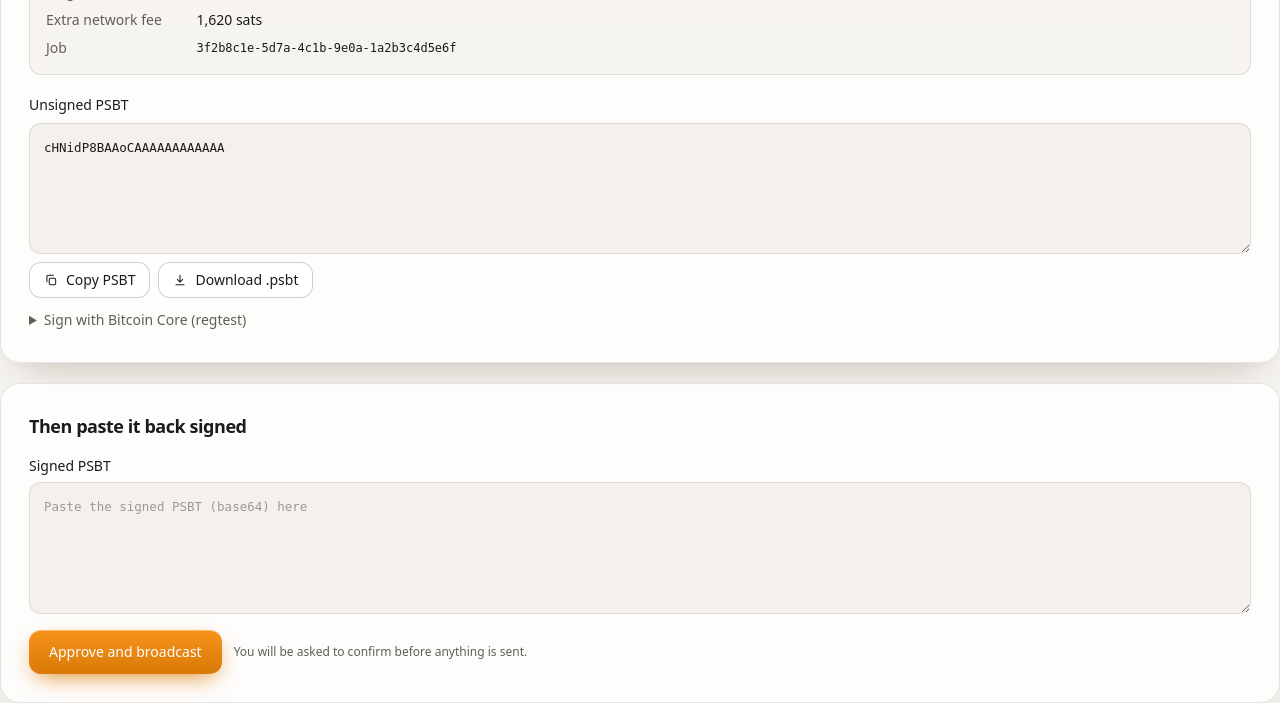
Test: Handoff approval › closing with Cancel never submits
(page scrolled)
Type "c2lnbmVkLXBzYnQ=" into the text box labelled "Signed PSBT". click: (640, 548)
box: [29,482,1251,614]
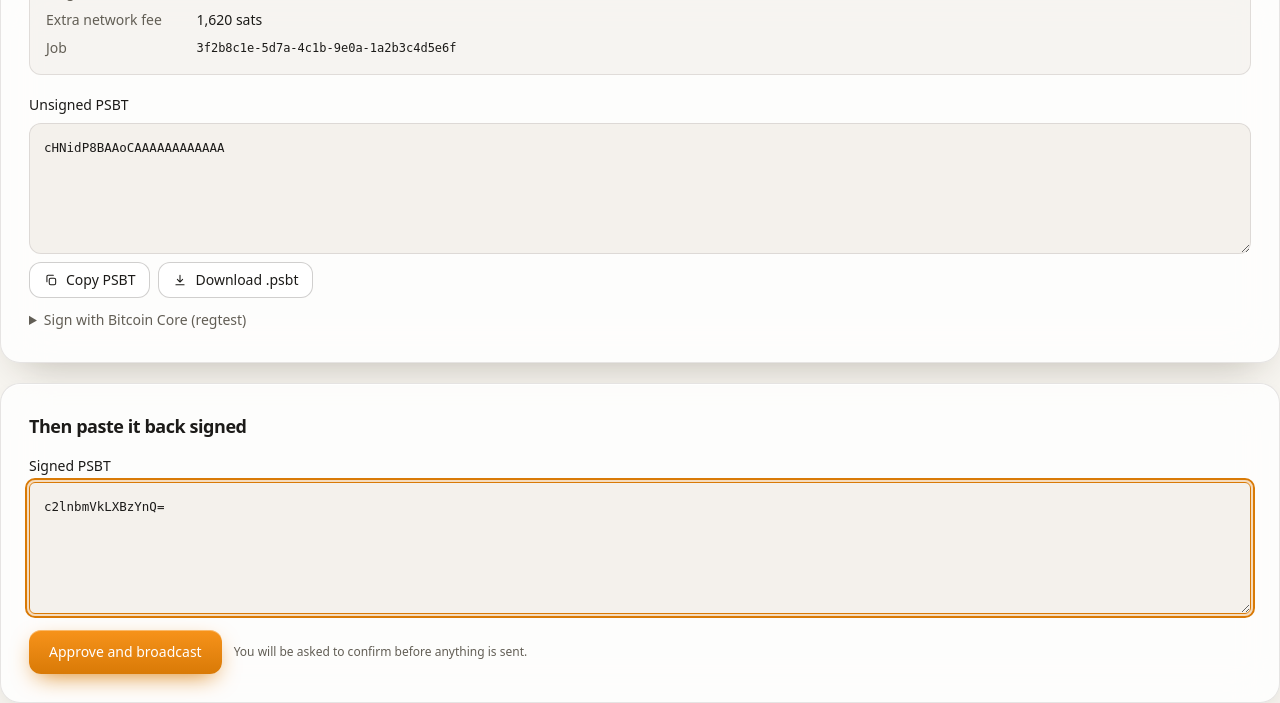
Click the button "Approve and broadcast". click: (125, 652)
box: [29,630,222,674]
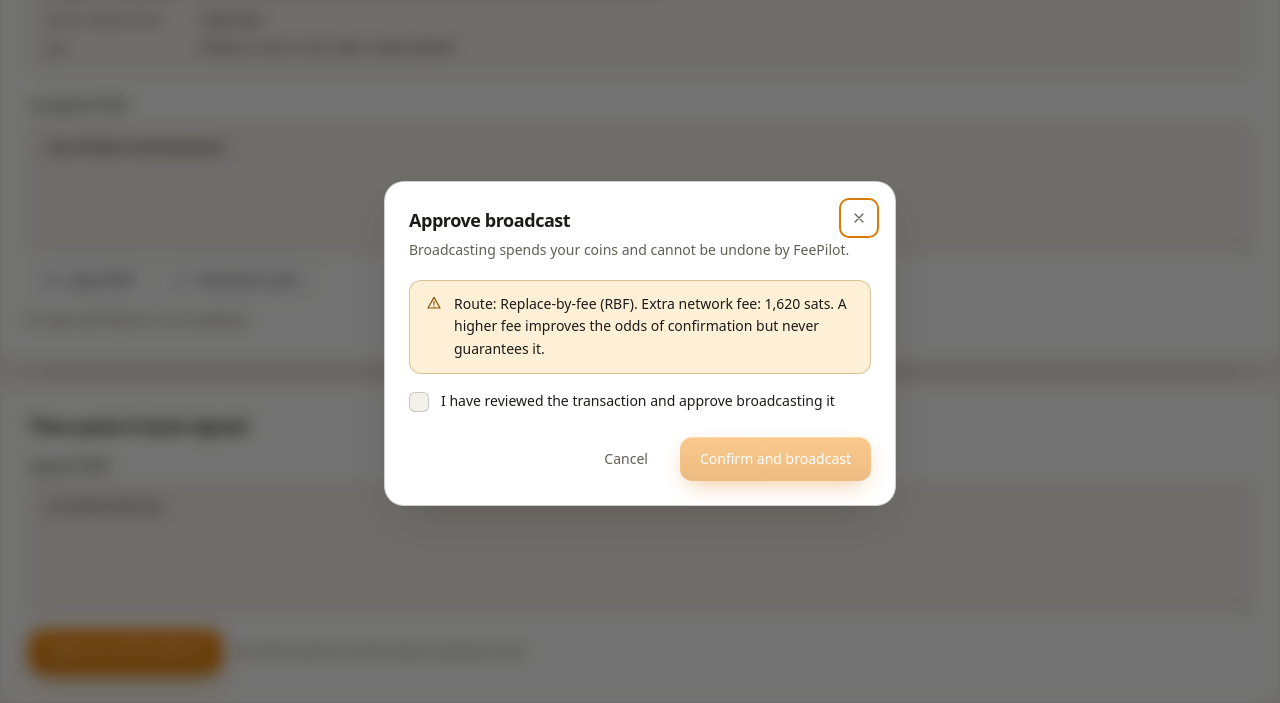
Click the button "Cancel". click: (626, 458)
box: [584,436,668,480]
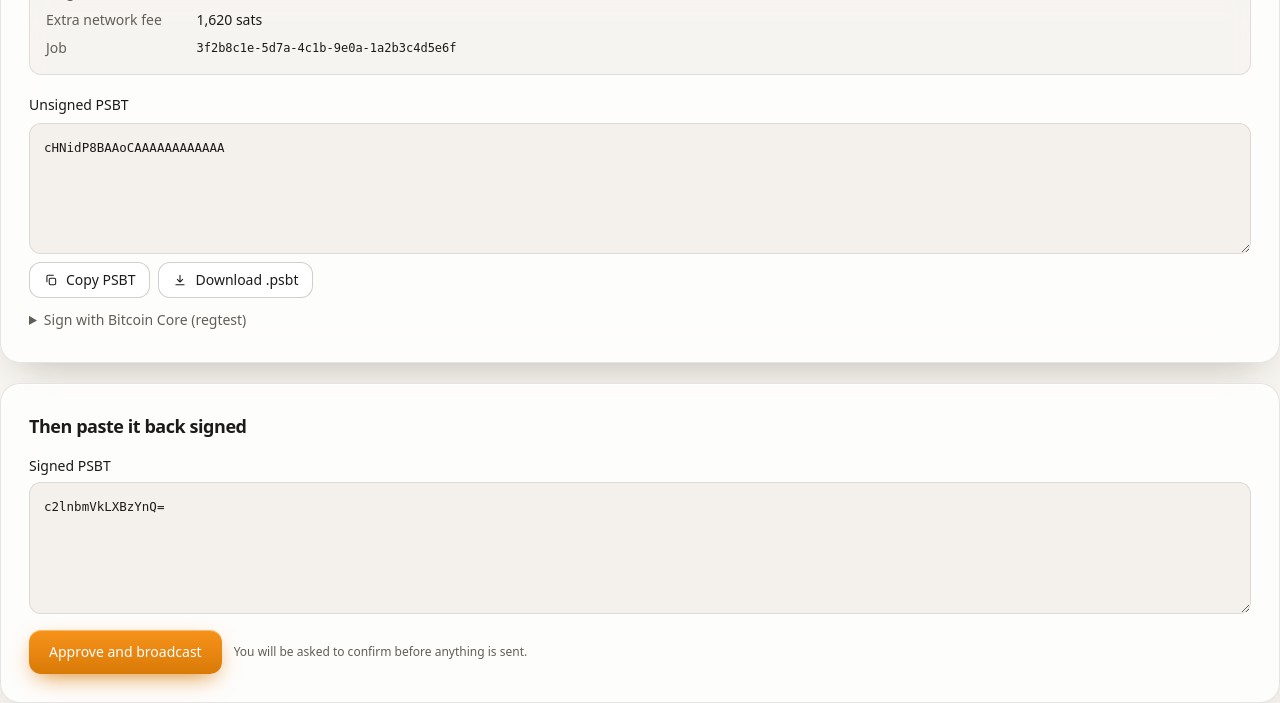
Check: the dialog is gone
